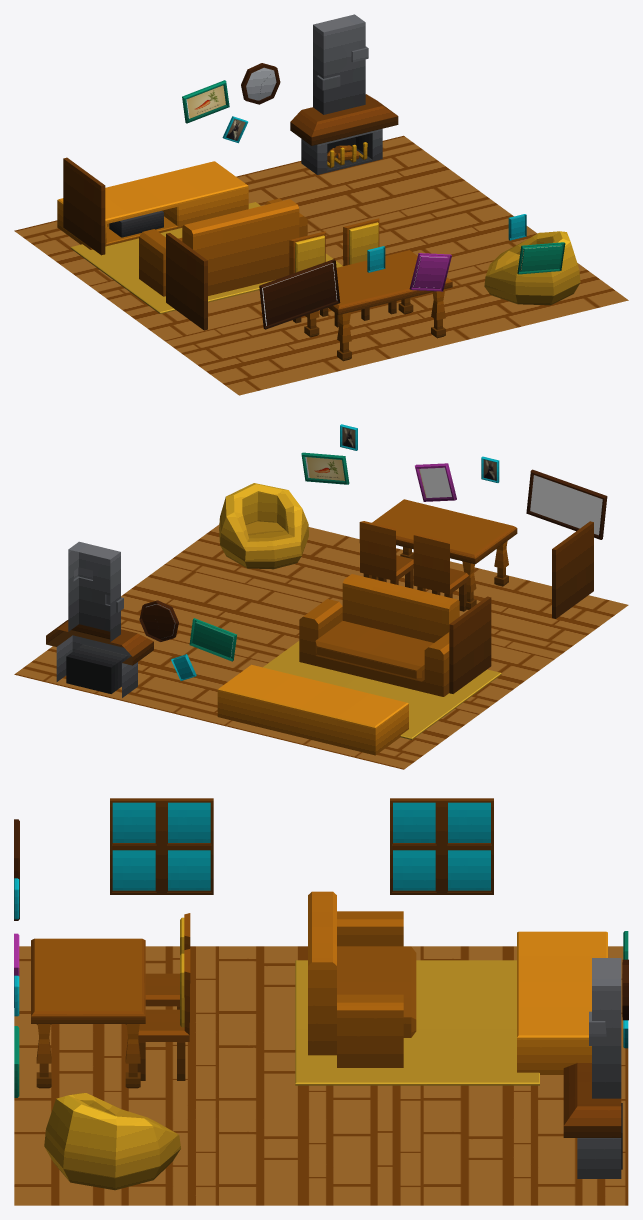
File: s1_Living_v2.fbx
The picture shows the model from 3 angles, top to bottom: view 1: azimuth 30°, elevation 25°; view 2: azimuth 150°, elevation 25°; view 3: azimuth 270°, elevation 25°; orthographic projection. The views are drawn at different scales.
Parts seen in each view (by area): view 1: s1_Living_v2; view 2: s1_Living_v2; view 3: s1_Living_v2.
Boxes of the visible parts, box(x1,y1,x2,y2) form: s1_Living_v2: box(14, 14, 628, 395); s1_Living_v2: box(14, 424, 628, 769); s1_Living_v2: box(14, 798, 628, 1205).
Bounding box in the file's own units: 900 × 300 × 901.
